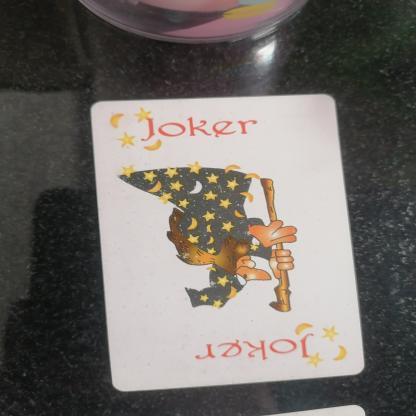RED JOKER: (93, 106, 274, 158)
